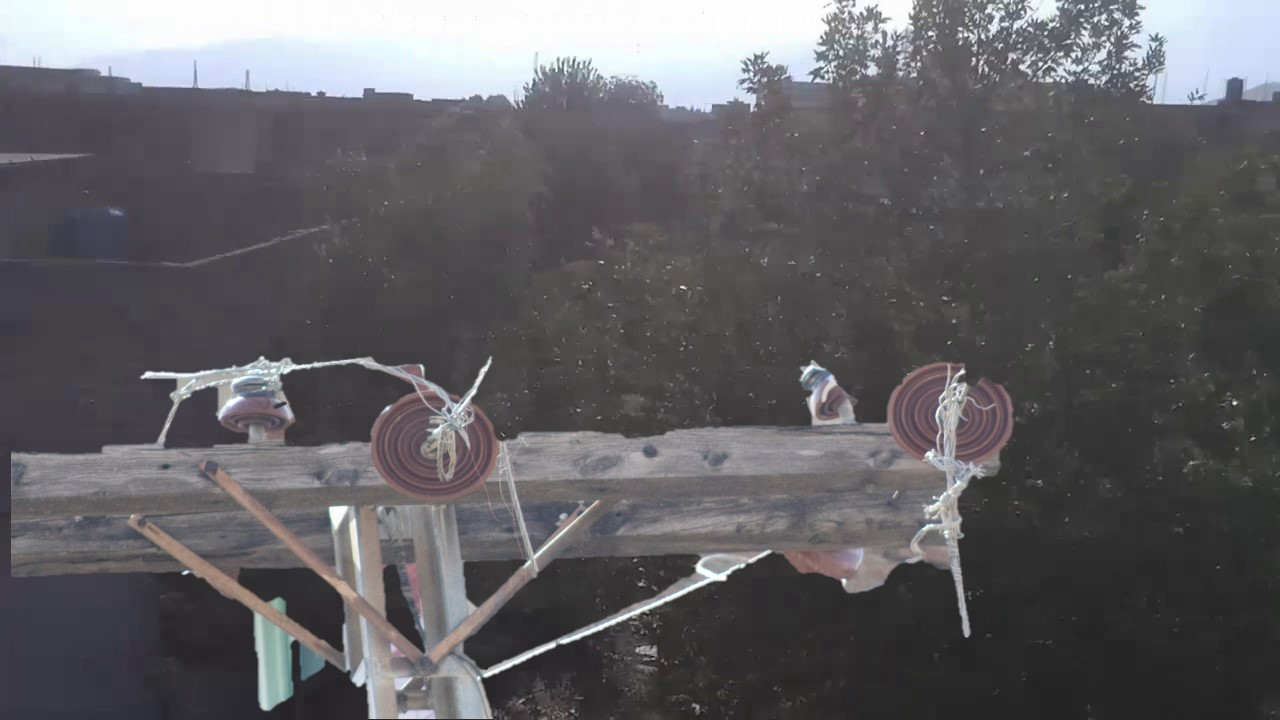defect_pin: (795, 356, 860, 429)
insulator_disc: (362, 376, 504, 505), (883, 354, 1018, 466)
insulator_pin: (213, 367, 297, 440)
